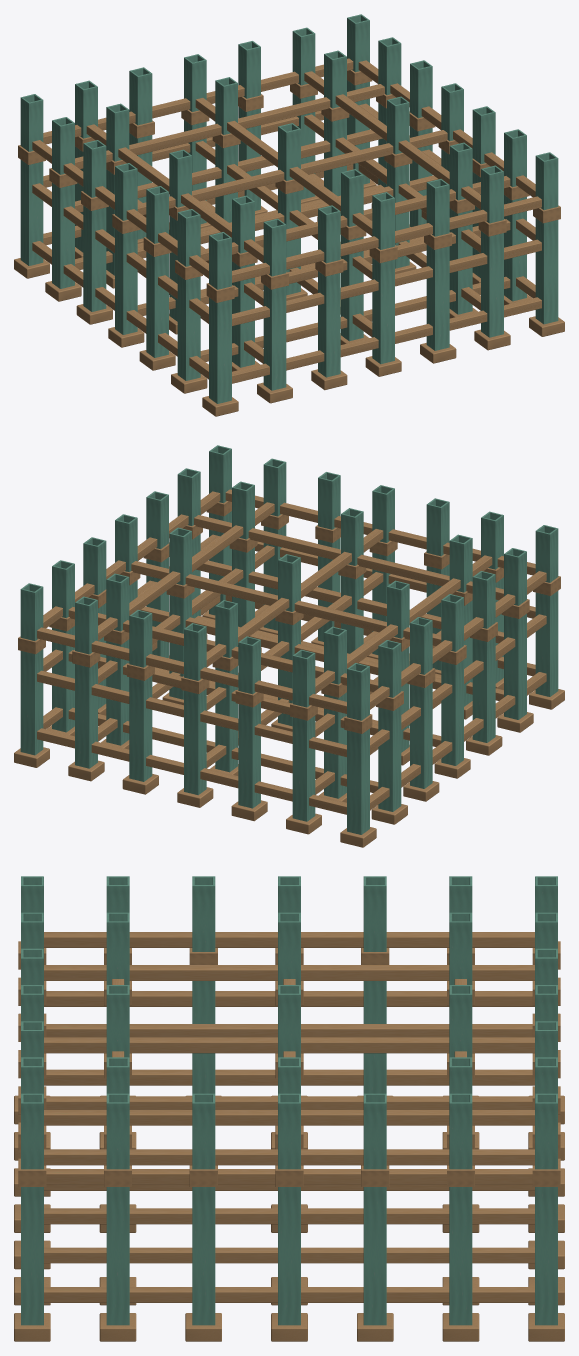
3 renders of one model, top to bottom at view 1: azimuth 30°, elevation 25°; view 2: azimuth 150°, elevation 25°; view 3: azimuth 270°, elevation 25°, orthographic. The views are drawn at different scales.
Visible parts, largest first — view 1: Tier 1 internal tie 0-0-0-0.25, Tier 1 internal tie 0-0.56-0-0.25, Tier 0 tie 0-0-0.75, Tier 0 tie 0-0-0.25, Tier 1 tie 0-0-0.25, Tier 0 upright 0, Tier 0 upright 4, Tier 0 upright 1, Tier 0 upright 6, Tier 0 upright 3, Tier 0 upright 2, Tier 0 upright 5 (+76 smaller); view 2: Tier 1 internal tie 0-0-0-0.25, Tier 1 internal tie 0--0.56-0-0.25, Tier 0 tie 2-0-0.75, Tier 0 tie 2-0-0.25, Tier 1 tie 2-0-0.25, Tier 0 upright 18, Tier 0 upright 14, Tier 0 upright 17, Tier 0 upright 12, Tier 0 upright 15, Tier 0 upright 13, Tier 0 upright 16 (+76 smaller); view 3: Tier 1 internal tie 1-0-0-0.25, Tier 1 internal tie 1--0.56-0-0.25, Tier 0 tie 1-0-0.75, Tier 1 tie 1-0-0.25, Tier 0 internal tie 1-0.56-0-0.25, Tier 0 tie 3-0-0.25, Tier 0 tie 1-0-0.25, Tier 1 internal tie 1-0.56-0-0.25, Tier 1 tie 3-0-0.25, Tier 0 internal tie 1--0.56-0-0.75, Tier 0 tie 3-0-0.75, Tier 0 internal tie 1-0.56-0-0.75 (+51 smaller).
Part boxes in pixels (x1,y1,x2,y2): Tier 1 internal tie 0-0-0-0.25: (137, 130, 447, 214); Tier 1 internal tie 0-0.56-0-0.25: (75, 84, 384, 169); Tier 0 tie 0-0-0.75: (232, 239, 541, 326); Tier 0 tie 0-0-0.25: (232, 297, 541, 383); Tier 1 tie 0-0-0.25: (232, 196, 541, 282); Tier 0 upright 0: (209, 297, 231, 403); Tier 0 upright 4: (426, 244, 449, 350); Tier 0 upright 1: (263, 284, 286, 390); Tier 0 upright 6: (535, 218, 558, 324); Tier 0 upright 3: (372, 258, 394, 364); Tier 0 upright 2: (318, 271, 340, 377); Tier 0 upright 5: (481, 231, 503, 337); Tier 1 internal tie 0-0-0-0.25: (131, 561, 441, 645); Tier 1 internal tie 0--0.56-0-0.25: (194, 515, 503, 600); Tier 0 tie 2-0-0.75: (37, 670, 346, 757); Tier 0 tie 2-0-0.25: (37, 728, 346, 814); Tier 1 tie 2-0-0.25: (37, 627, 346, 713); Tier 0 upright 18: (347, 728, 369, 834); Tier 0 upright 14: (129, 675, 152, 781); Tier 0 upright 17: (292, 715, 315, 821); Tier 0 upright 12: (20, 649, 43, 755); Tier 0 upright 15: (184, 689, 206, 795); Tier 0 upright 13: (75, 662, 97, 768); Tier 0 upright 16: (238, 702, 260, 808); Tier 1 internal tie 1-0-0-0.25: (44, 1037, 534, 1053); Tier 1 internal tie 1--0.56-0-0.25: (44, 965, 534, 980); Tier 0 tie 1-0-0.75: (44, 1208, 534, 1224); Tier 1 tie 1-0-0.25: (44, 1149, 534, 1165); Tier 0 internal tie 1-0.56-0-0.25: (44, 1247, 534, 1263); Tier 0 tie 3-0-0.25: (44, 1069, 534, 1085); Tier 0 tie 1-0-0.25: (44, 1287, 534, 1302); Tier 1 internal tie 1-0.56-0-0.25: (44, 1110, 534, 1125); Tier 1 tie 3-0-0.25: (44, 932, 534, 947); Tier 0 internal tie 1--0.56-0-0.75: (46, 1024, 532, 1037); Tier 0 tie 3-0-0.75: (44, 991, 534, 1006); Tier 0 internal tie 1-0.56-0-0.75: (46, 1169, 532, 1184).
Size of the model in its own units: 1.8 by 0.8503 by 1.8.
Materials: 2 (2 with a texture image).
